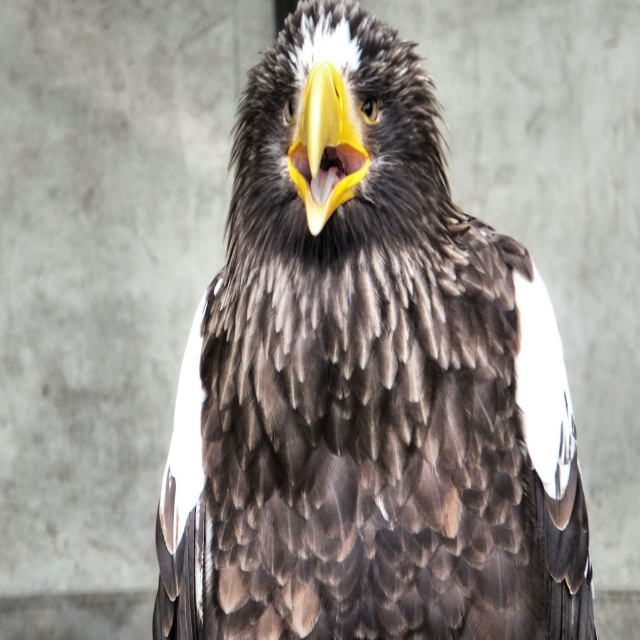Eagle: (150, 0, 596, 633)
